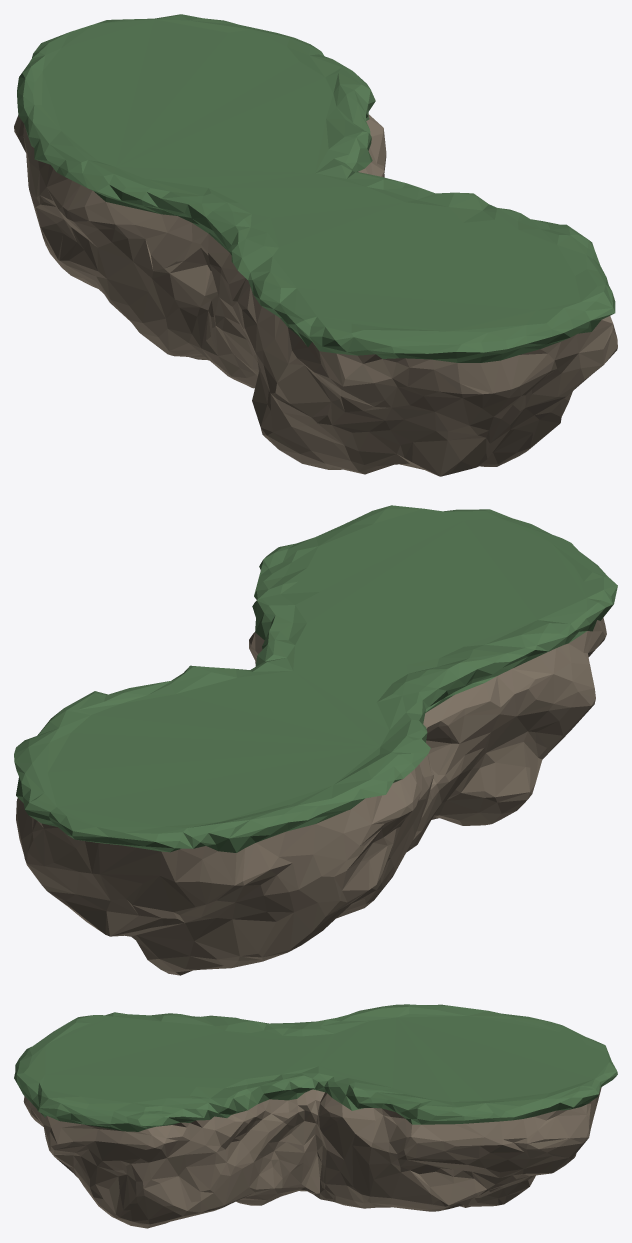
File: TwinIsland.fbx
3 renders of one model, top to bottom at view 1: azimuth 30°, elevation 25°; view 2: azimuth 150°, elevation 25°; view 3: azimuth 270°, elevation 25°, orthographic. The views are drawn at different scales.
Parts seen in each view (by area): view 1: polySurface1; view 2: polySurface1; view 3: polySurface1.
Part boxes in pixels (x1,y1,x2,y2): polySurface1: (14,14,617,476); polySurface1: (14,505,617,975); polySurface1: (14,1004,617,1228).
Bounding box in the file's own units: 13.66 × 8.43 × 30.42.
